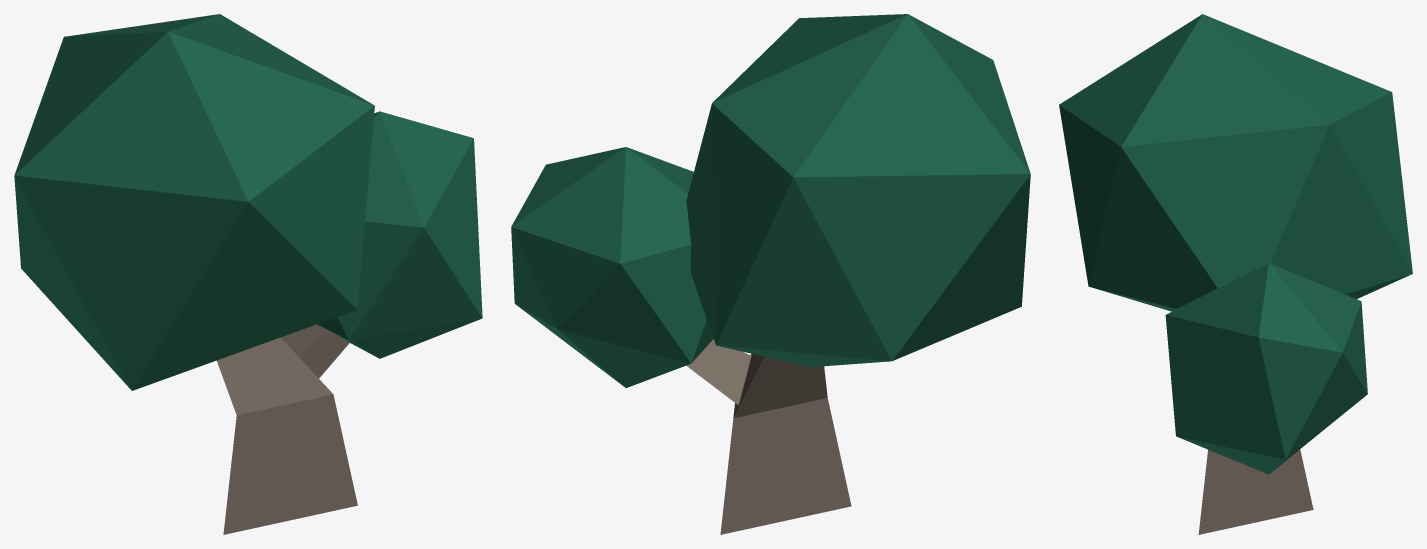
File: barrier_tree_1.fbx
The picture shows the model from 3 angles, left to right: view 1: azimuth 30°, elevation 25°; view 2: azimuth 150°, elevation 25°; view 3: azimuth 270°, elevation 25°; orthographic projection. The views are drawn at different scales.
Visible parts, largest first — view 1: tree_1; view 2: tree_1; view 3: tree_1.
Part boxes in pixels (x1,y1,x2,y2): tree_1: [14, 14, 482, 534]; tree_1: [511, 14, 1030, 534]; tree_1: [1059, 14, 1412, 534].
Bounding box in the file's own units: 376 × 376 × 272.
